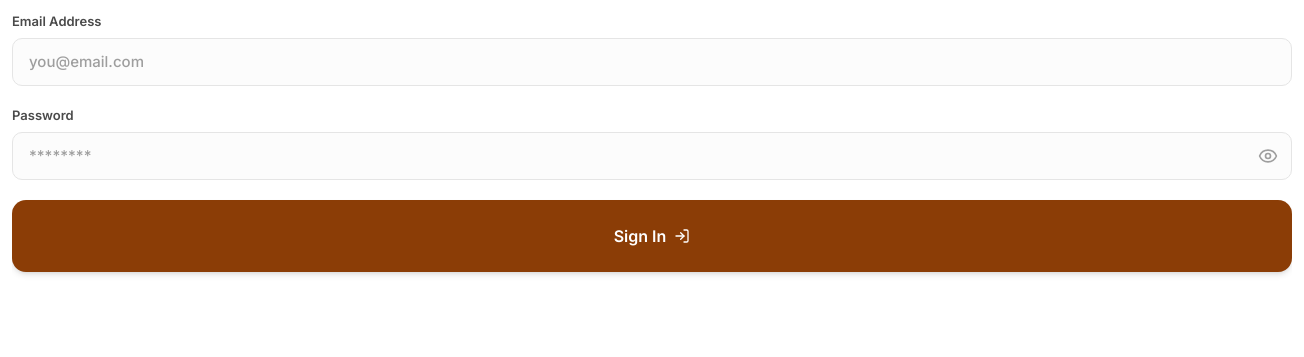
Test case: LoginForm › shows error message on network failure
Step 1. Type "budi@test.com" into the field labelled "Email Address" → [652, 62], box top-left (12, 38), bottom-right (1292, 86)
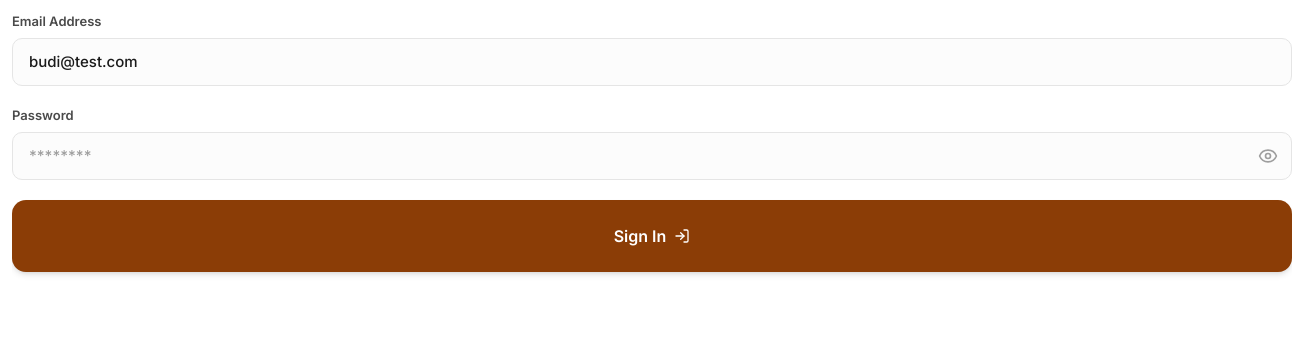
Step 2. Type "Member123!" into the password field labelled "Password" → [652, 156], box top-left (12, 132), bottom-right (1292, 180)
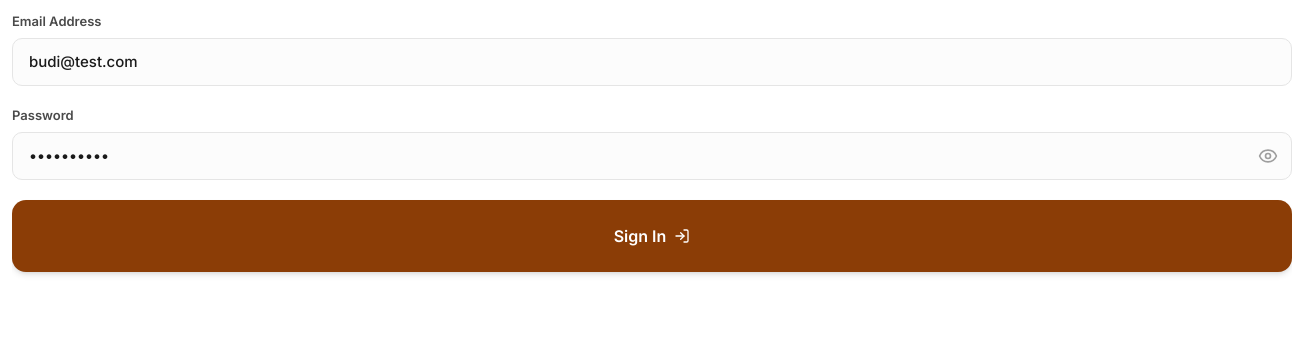
Step 3. Click the button "Sign In" → [652, 236], box top-left (12, 200), bottom-right (1292, 272)
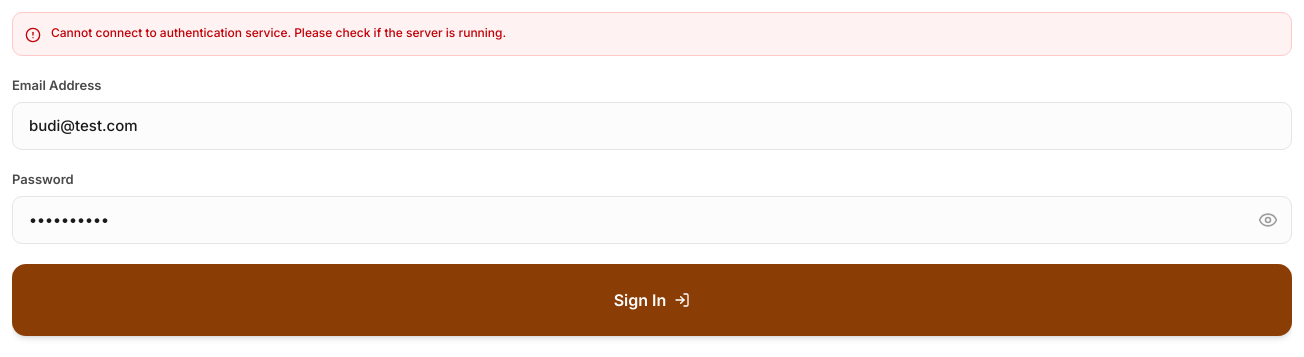
Result: the text "Cannot connect to authentication service" is shown at top-left (51, 25), bottom-right (506, 40)
